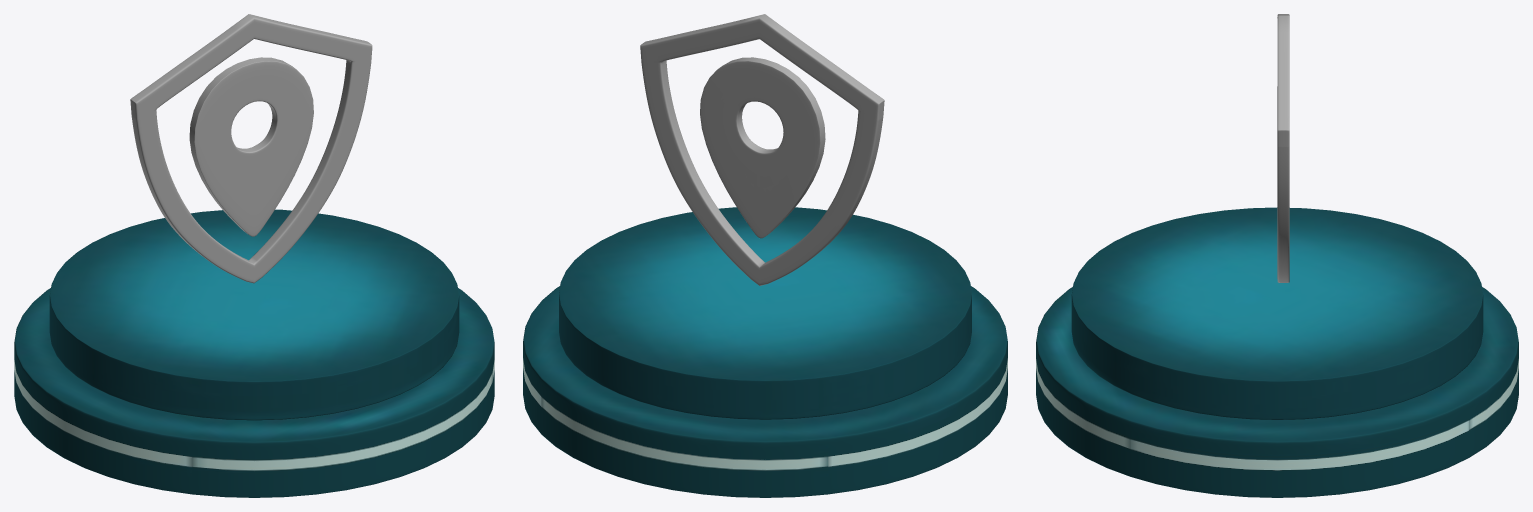
The model's file is Escudo_4.gltf.
3 views of the same model, side by side, from view 1: azimuth 30°, elevation 25°; view 2: azimuth 150°, elevation 25°; view 3: azimuth 270°, elevation 25° (orthographic).
Visible parts, largest first — view 1: Base, escudo.001, Plane.005; view 2: Base, escudo.001, Plane.005; view 3: Base, escudo.001.
Boxes of the visible parts, <box> form: Base: <box>14,209,494,497</box>; escudo.001: <box>130,14,372,283</box>; Plane.005: <box>189,57,313,236</box>; Base: <box>523,207,1007,497</box>; escudo.001: <box>640,14,884,285</box>; Plane.005: <box>700,57,825,238</box>; Base: <box>1036,207,1518,497</box>; escudo.001: <box>1277,14,1289,282</box>.
Size of the model in its own units: 2.91 by 2.53 by 2.91.
3 materials, 1 textured.
